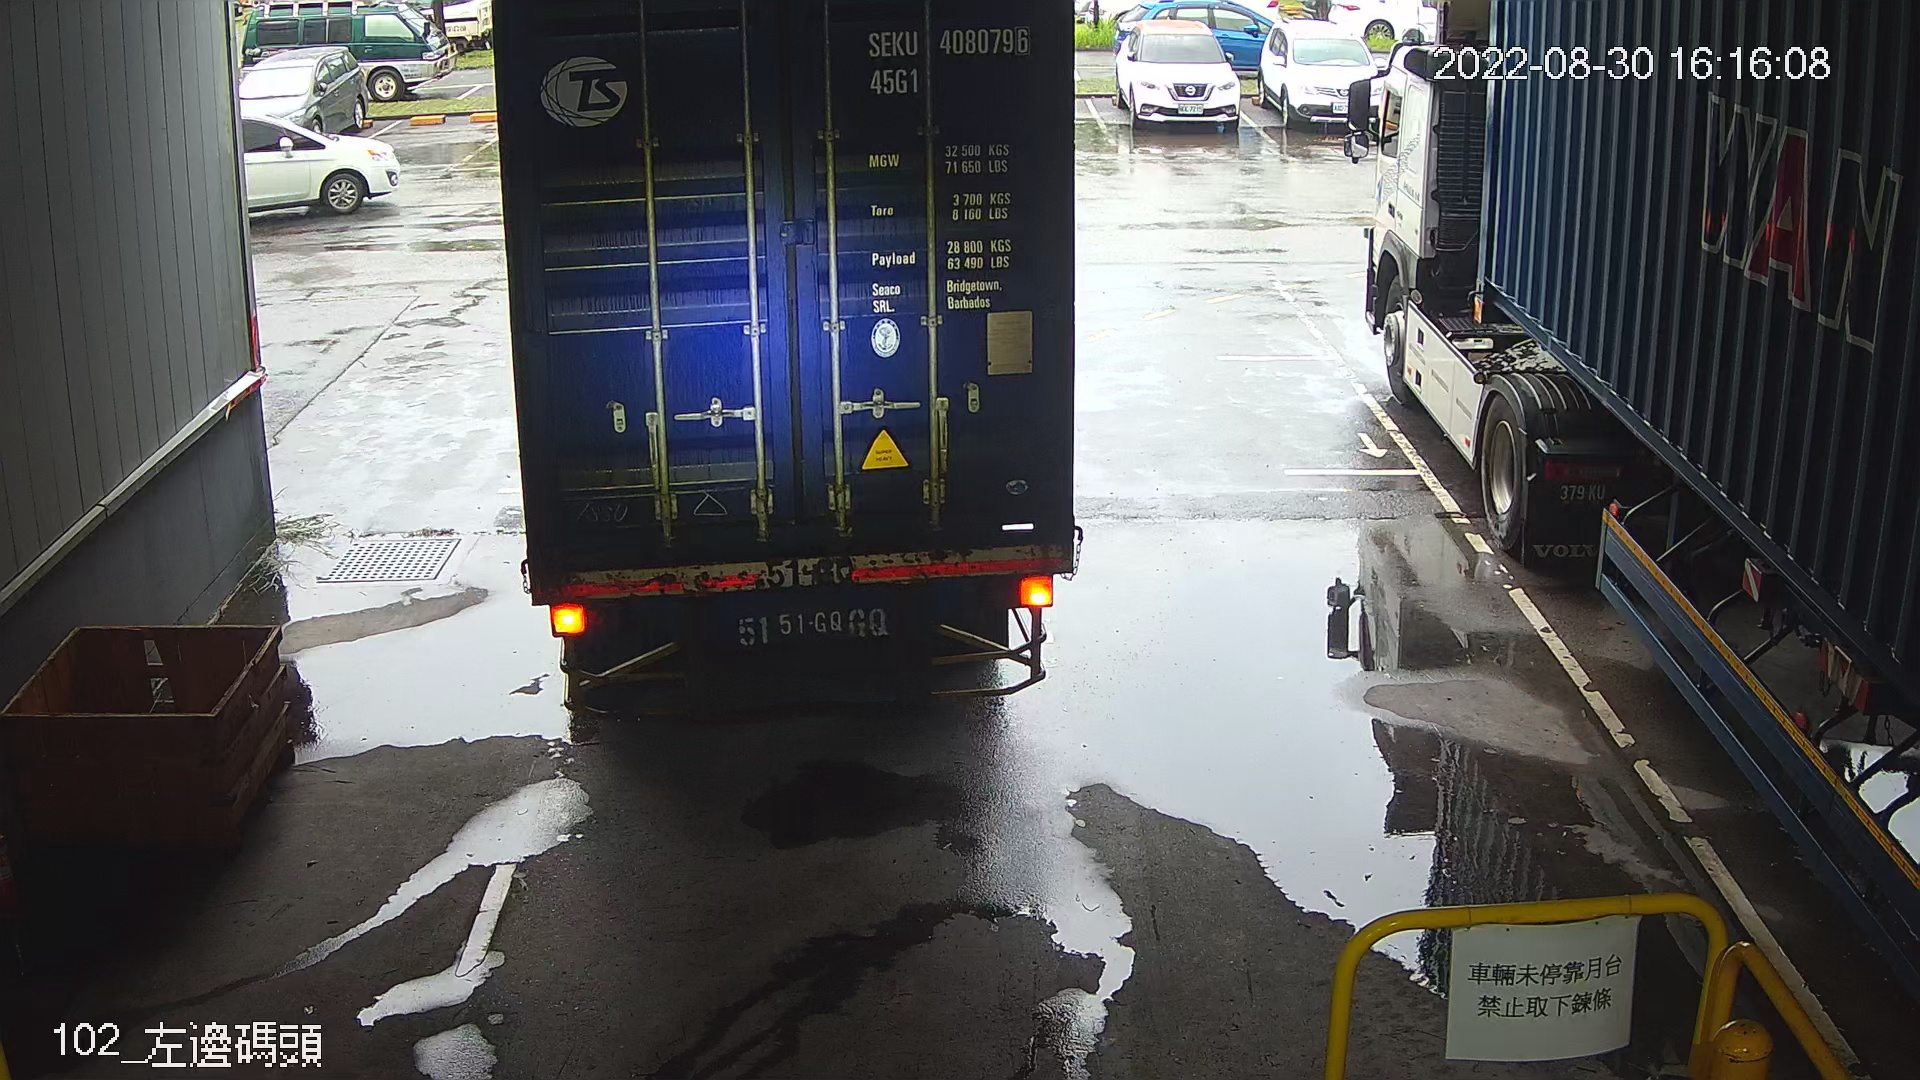container: (857, 17, 1040, 105)
